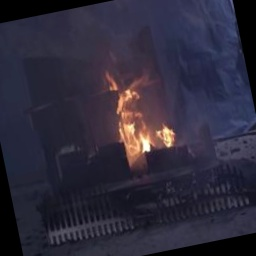fire: (101, 65, 181, 163)
